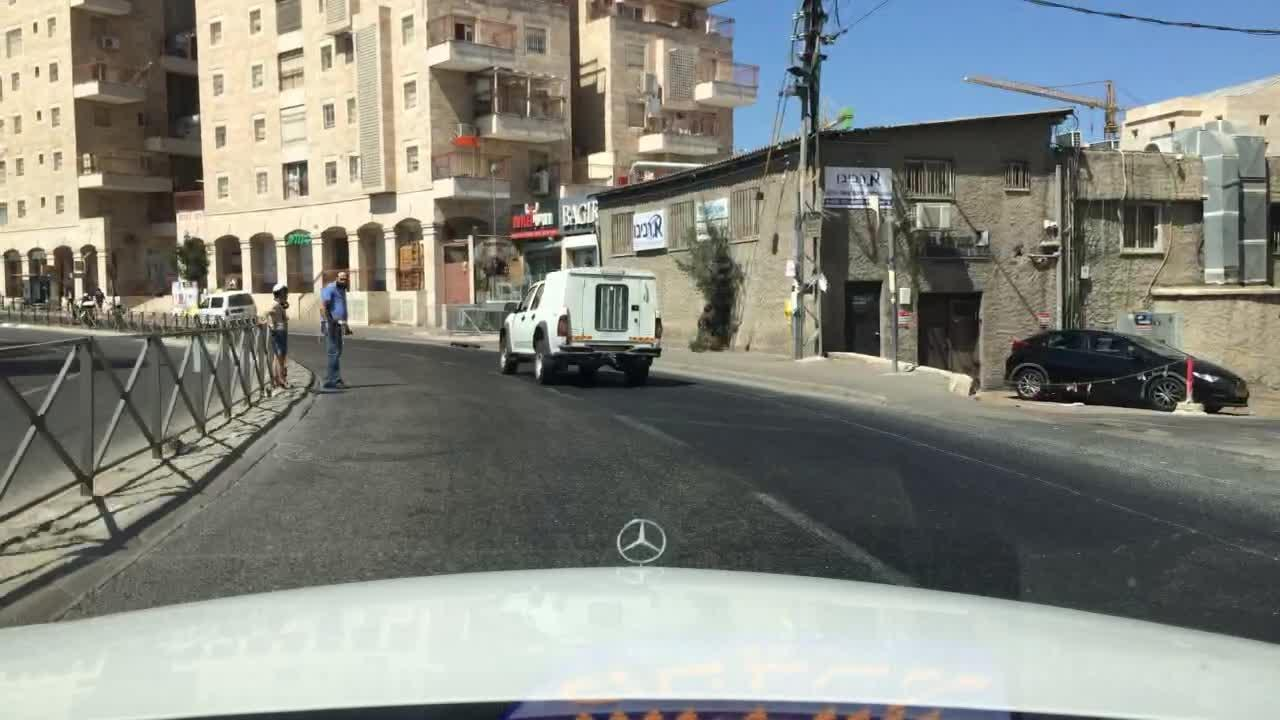Mercedes: (612, 512, 671, 567)
